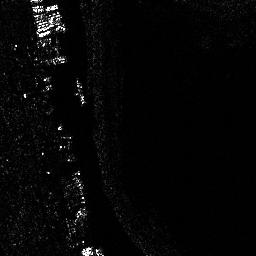ship: (74, 78, 88, 104), (45, 56, 69, 64), (44, 4, 62, 10), (32, 4, 44, 12), (37, 30, 50, 37)
